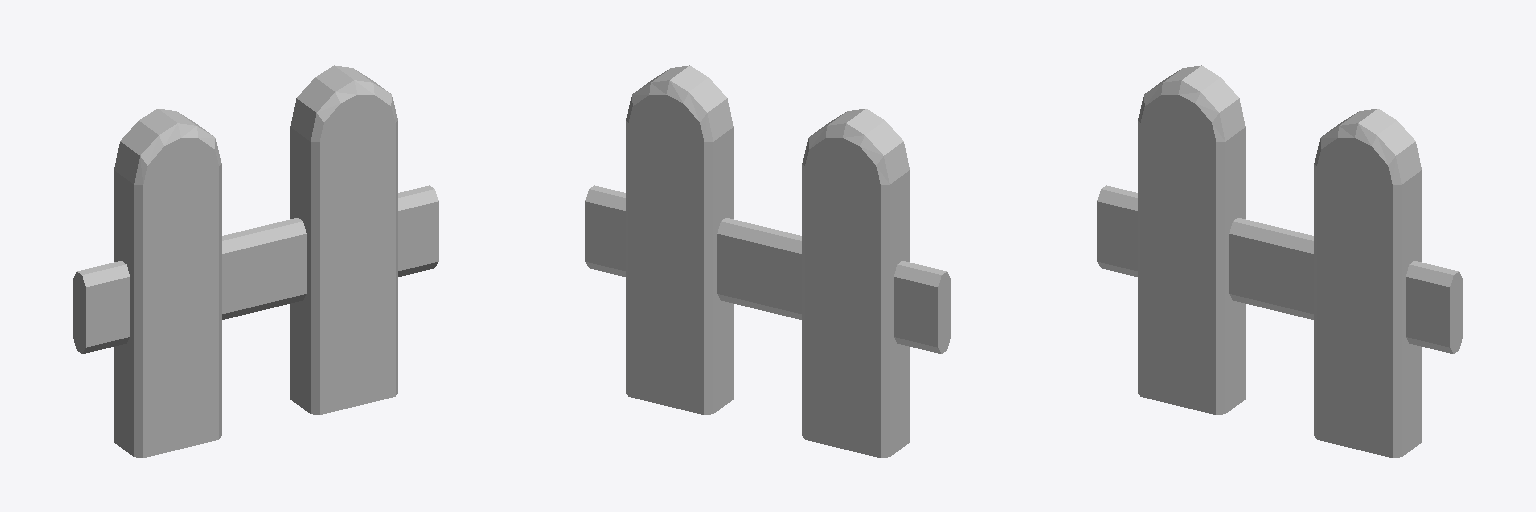
Rendered from fence.obj.
3 renders of one model, left to right at view 1: azimuth 30°, elevation 25°; view 2: azimuth 150°, elevation 25°; view 3: azimuth 330°, elevation 25°, orthographic.
Visible parts, largest first — view 1: fence; view 2: fence; view 3: fence.
Part boxes in pixels (bbox=[...]): fence: bbox=[73, 65, 438, 457]; fence: bbox=[585, 65, 950, 457]; fence: bbox=[1097, 65, 1462, 457].
Size of the model in its own units: 1 by 0.8758 by 0.1322.